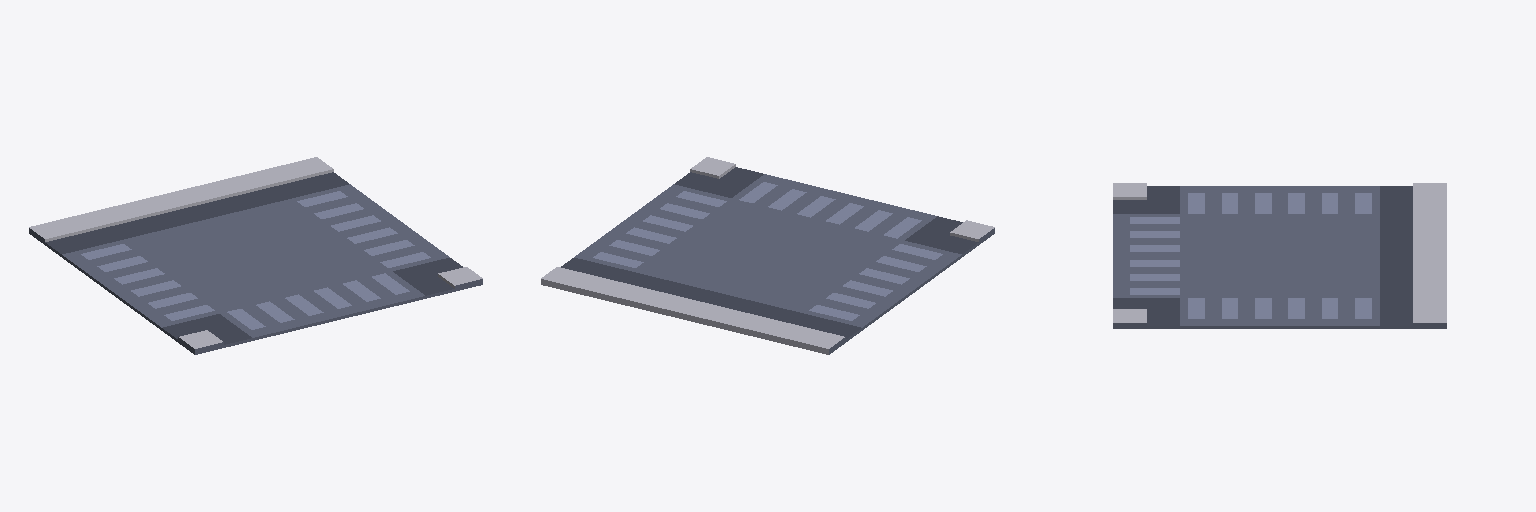
The model's file is city_road_junction.obj.
The picture shows the model from 3 angles: view 1: azimuth 30°, elevation 25°; view 2: azimuth 150°, elevation 25°; view 3: azimuth 270°, elevation 25°; orthographic projection.
Parts seen in each view (by area): view 1: mergedBlocks; view 2: mergedBlocks; view 3: mergedBlocks.
Part boxes in pixels (left/top/right/bottom): mergedBlocks: left=29, top=157, right=482, bottom=354; mergedBlocks: left=541, top=157, right=994, bottom=354; mergedBlocks: left=1113, top=183, right=1446, bottom=328.
Size of the model in its own units: 1 by 0.02 by 1.